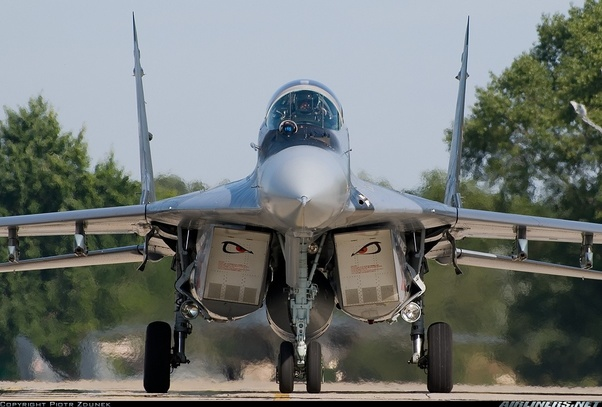Mig-29: (42, 11, 517, 389)
